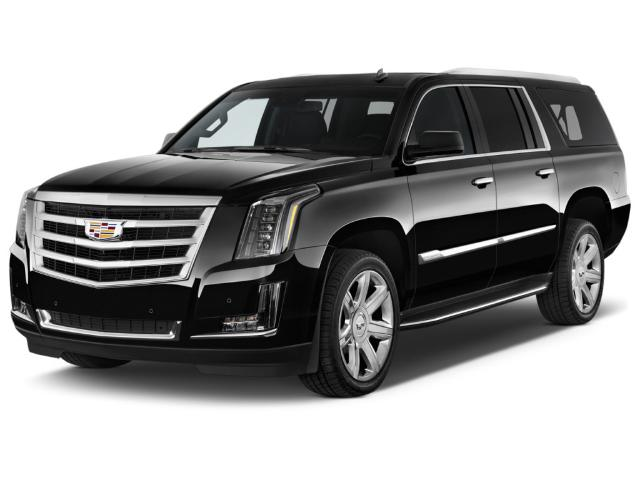cadillac: (9, 69, 630, 399)
